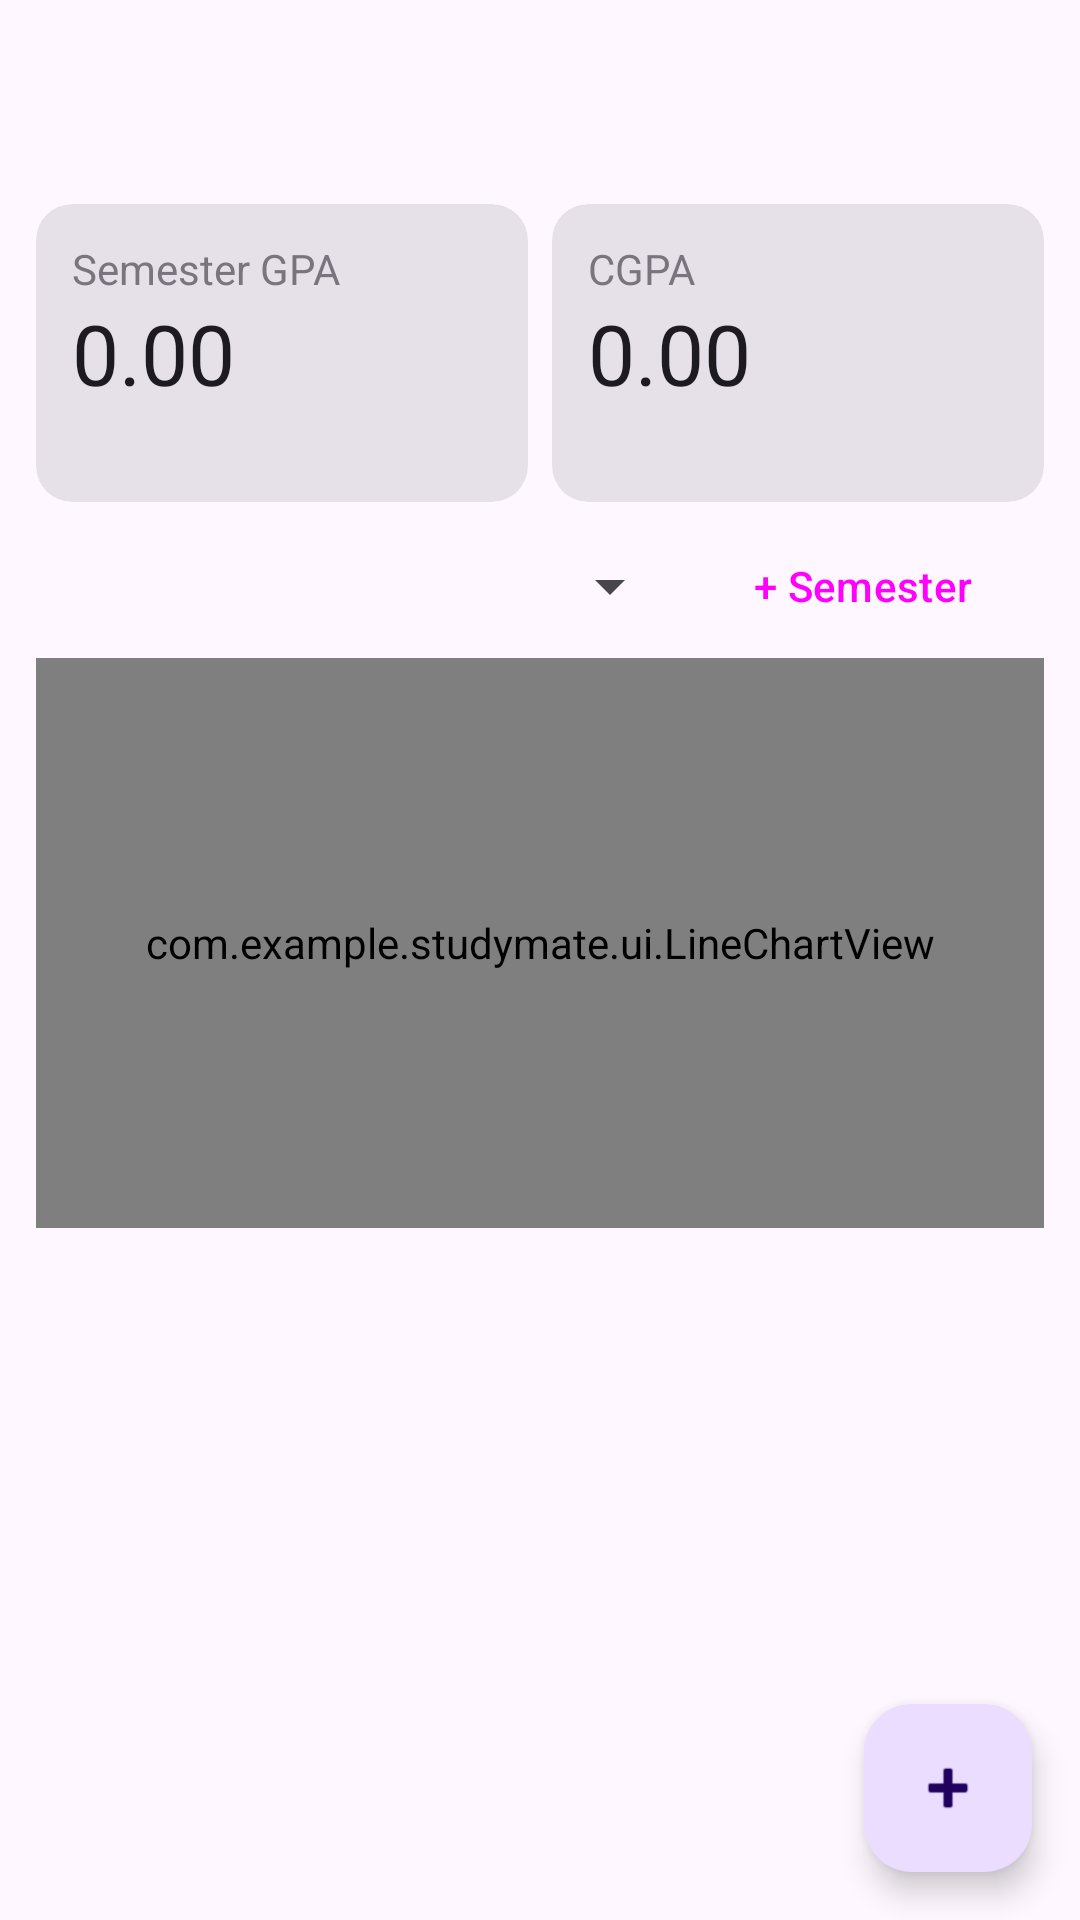

Point at icon controls on the screen. Image size 1080 x 1920, points as point (x, y).
Add course grade: point (948, 1788)
